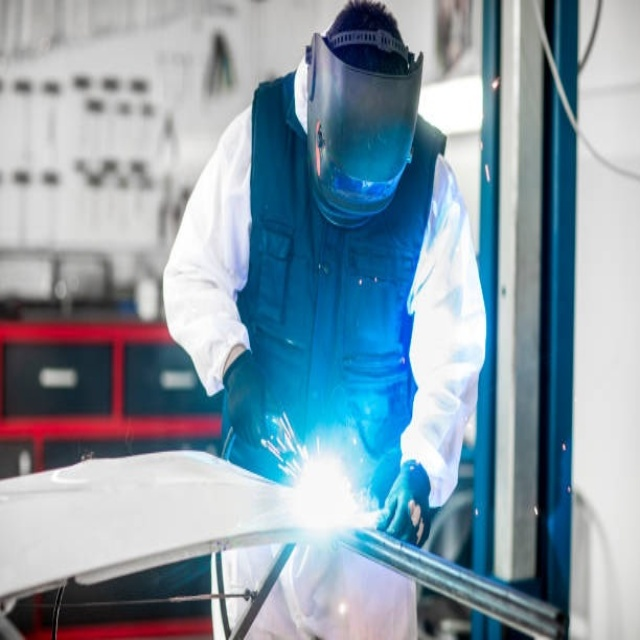Guantes: (222, 348, 289, 463), (375, 460, 434, 547)
